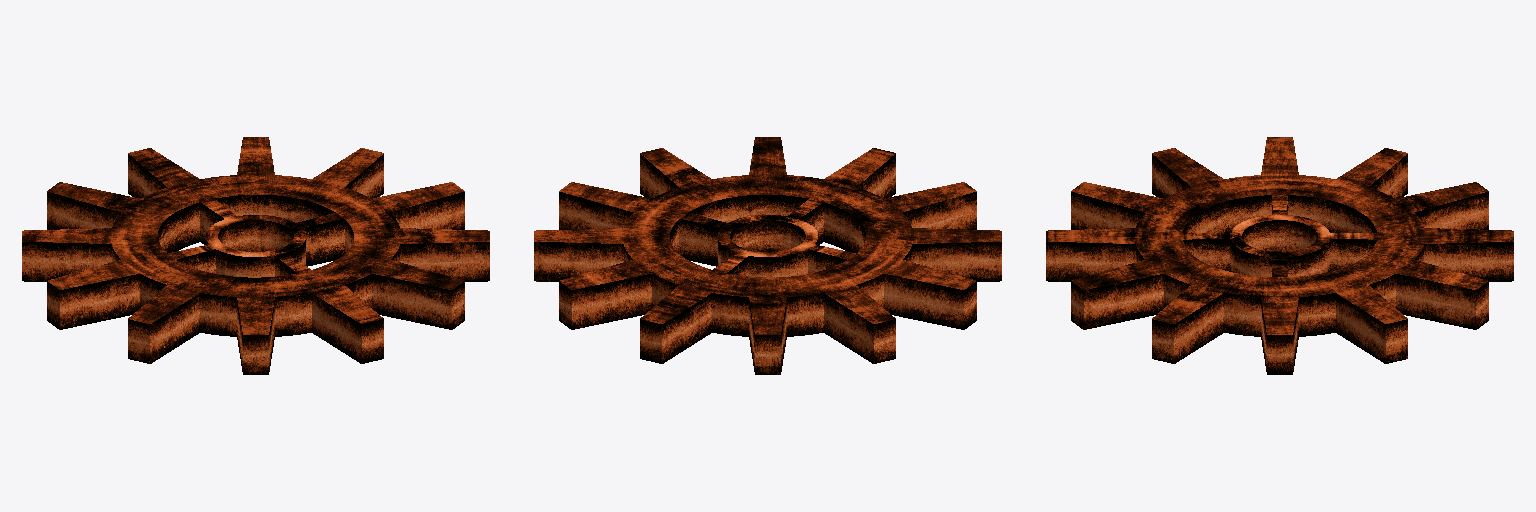
3 views of the same model, side by side, from view 1: azimuth 30°, elevation 25°; view 2: azimuth 150°, elevation 25°; view 3: azimuth 270°, elevation 25° (orthographic).
Visible parts, largest first — view 1: cog; view 2: cog; view 3: cog.
Boxes of the visible parts, x1,y1,x2,y2 form: cog: [22, 137, 489, 374]; cog: [534, 137, 1001, 374]; cog: [1046, 137, 1513, 374].
Size of the model in its own units: 2 by 0.1875 by 2.
Materials: 1 (1 with a texture image).